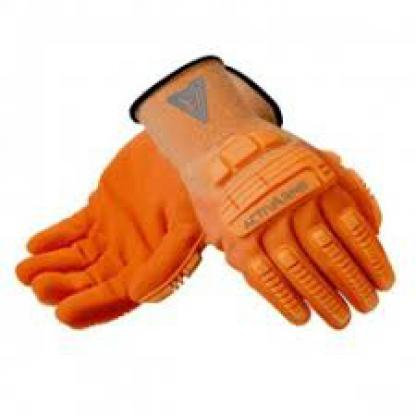with_gloves: (128, 54, 398, 331), (15, 129, 207, 333)
